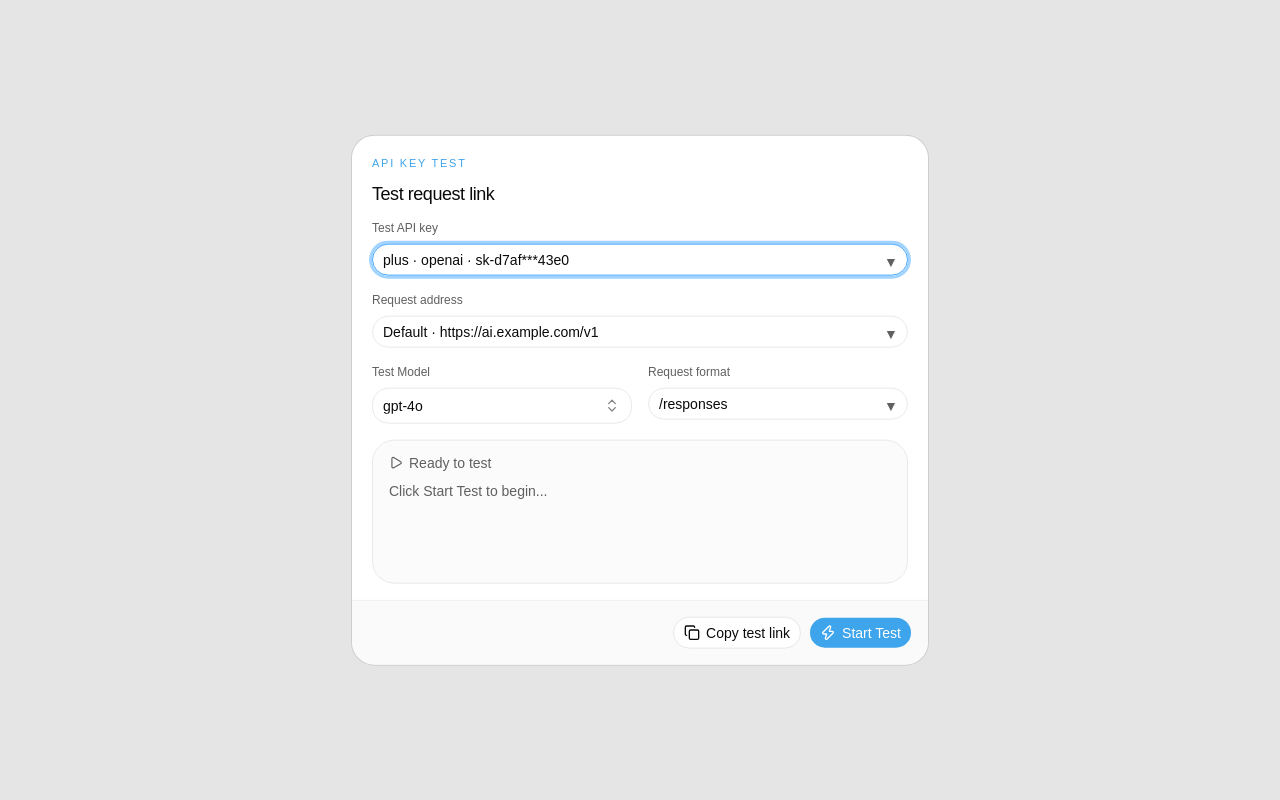
it: next test connection dialog › streams the model reply into the result box after start
Step 1. Click the button "Start Test" → {"x": 861, "y": 632}, box [809,616,912,648]
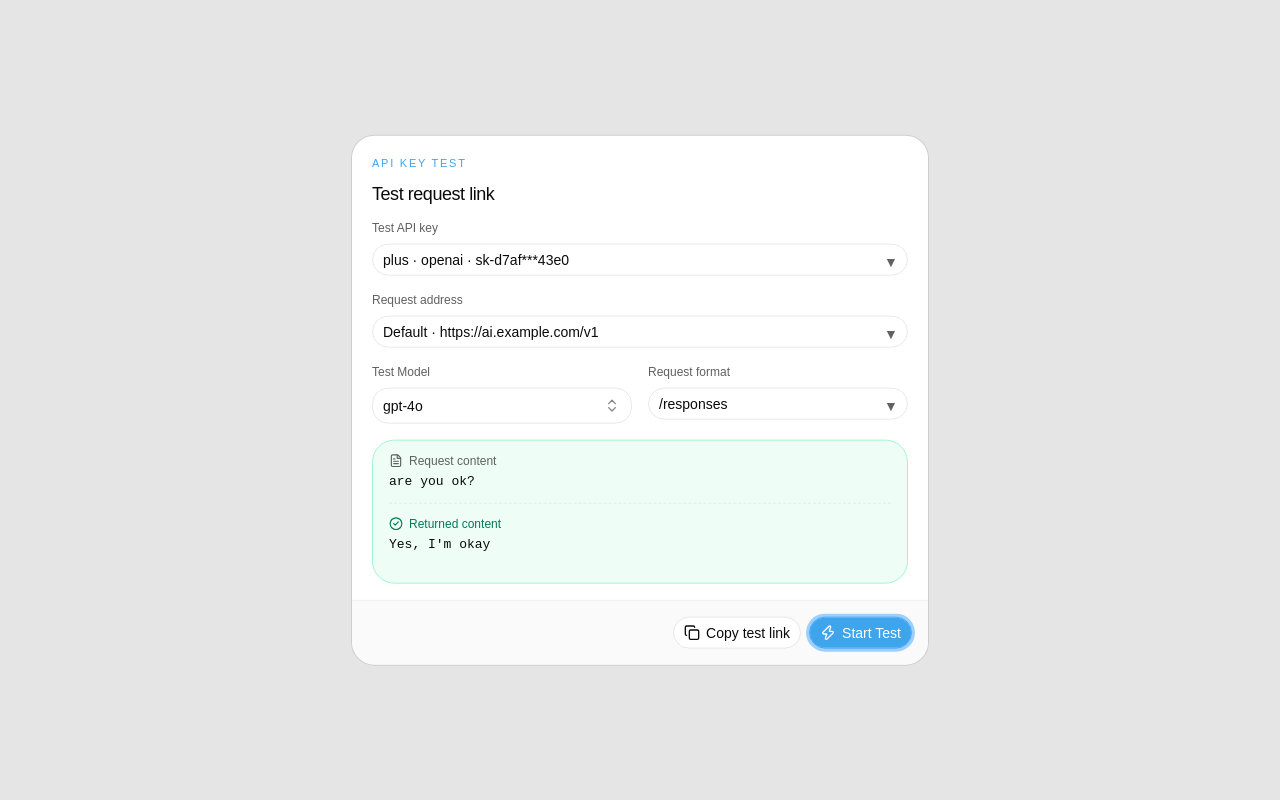
Check: the text "Yes, I'm okay" is shown, box [389,537,490,552]
Check: the text "are you ok?" is shown, box [389,473,475,488]
